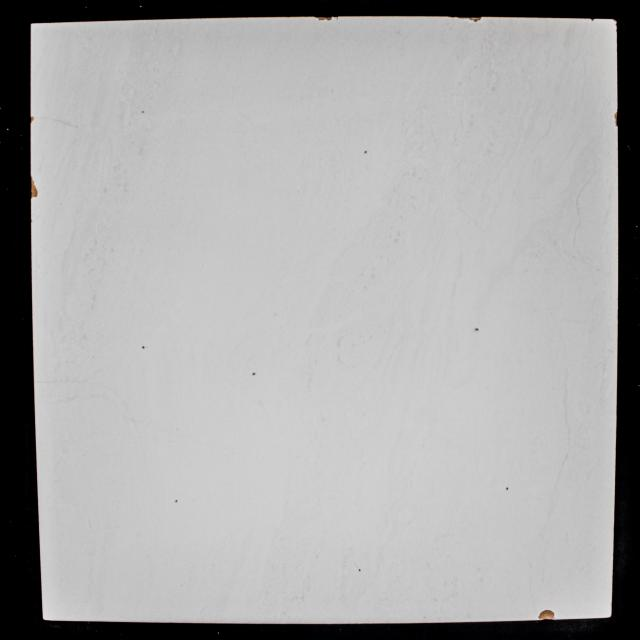edge-chipping: (30, 175, 38, 199), (538, 610, 556, 620), (314, 16, 332, 21), (614, 108, 618, 127), (468, 17, 482, 22), (30, 116, 34, 123), (333, 16, 339, 20), (456, 17, 467, 19), (448, 16, 455, 18), (590, 18, 594, 21), (613, 19, 617, 22)
hole: (474, 328, 480, 332), (364, 150, 367, 154), (358, 568, 361, 572), (175, 499, 178, 503), (141, 110, 144, 114), (142, 346, 145, 349), (252, 373, 255, 375), (506, 487, 508, 490)
line: (49, 117, 79, 129)
